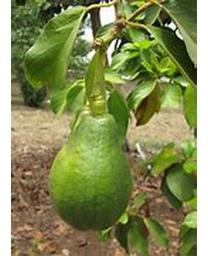avocado: (47, 110, 134, 233)
